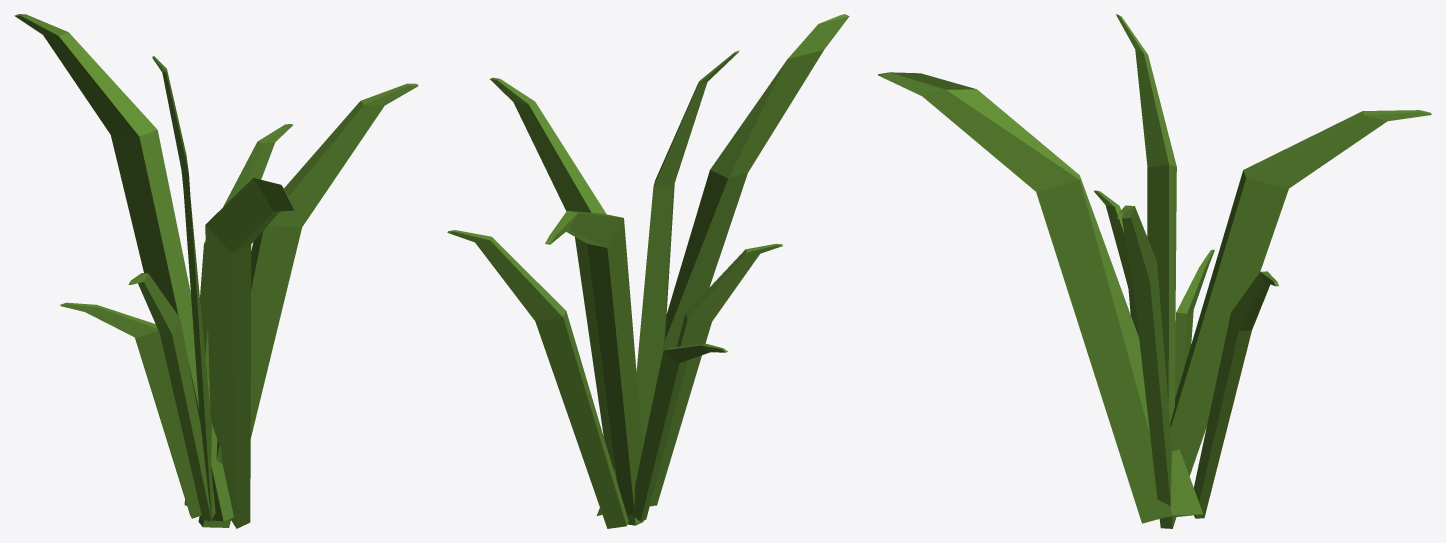
The model's file is Grass_Divided.fbx.
3 views of the same model, side by side, from view 1: azimuth 30°, elevation 25°; view 2: azimuth 150°, elevation 25°; view 3: azimuth 270°, elevation 25° (orthographic). The views are drawn at different scales.
Visible parts, largest first — view 1: Grass_piece_7, Grass_piece_8, Grass_piece_11, Grass_piece_3, Grass_piece_4, Grass_piece_14, Grass_piece_1, Grass_piece_12, Grass_piece_9, Grass_piece_13, Grass_piece_5, Grass_piece_6 (+2 smaller); view 2: Grass_piece_8, Grass_piece_10, Grass_piece_7, Grass_piece_9, Grass_piece_1, Grass_piece_3, Grass_piece_12, Grass_piece_5, Grass_piece_14, Grass_piece_11, Grass_piece_13, Grass_piece_2 (+2 smaller); view 3: Grass_piece_7, Grass_piece_8, Grass_piece_1, Grass_piece_11, Grass_piece_9, Grass_piece_4, Grass_piece_10, Grass_piece_2, Grass_piece_3, Grass_piece_5, Grass_piece_12, Grass_piece_13 (+1 smaller).
Part boxes in pixels (x1=…): Grass_piece_7: x1=205, y1=225, x2=251, y2=528; Grass_piece_8: x1=111, y1=130, x2=233, y2=521; Grass_piece_11: x1=198, y1=226, x2=301, y2=527; Grass_piece_3: x1=267, y1=83, x2=418, y2=227; Grass_piece_4: x1=14, y1=14, x2=157, y2=136; Grass_piece_14: x1=160, y1=318, x2=215, y2=520; Grass_piece_1: x1=205, y1=178, x2=298, y2=253; Grass_piece_12: x1=135, y1=331, x2=201, y2=518; Grass_piece_9: x1=181, y1=172, x2=214, y2=521; Grass_piece_13: x1=128, y1=273, x2=179, y2=333; Grass_piece_5: x1=204, y1=124, x2=293, y2=243; Grass_piece_6: x1=60, y1=302, x2=158, y2=338; Grass_piece_8: x1=587, y1=218, x2=641, y2=516; Grass_piece_10: x1=535, y1=311, x2=628, y2=528; Grass_piece_7: x1=596, y1=170, x2=747, y2=515; Grass_piece_9: x1=636, y1=184, x2=674, y2=506; Grass_piece_1: x1=710, y1=14, x2=849, y2=178; Grass_piece_3: x1=490, y1=77, x2=606, y2=214; Grass_piece_12: x1=630, y1=351, x2=687, y2=521; Grass_piece_5: x1=447, y1=230, x2=565, y2=321; Grass_piece_14: x1=650, y1=314, x2=711, y2=505; Grass_piece_11: x1=575, y1=237, x2=643, y2=525; Grass_piece_13: x1=685, y1=243, x2=782, y2=321; Grass_piece_2: x1=653, y1=50, x2=739, y2=188; Grass_piece_7: x1=1036, y1=175, x2=1202, y2=523; Grass_piece_8: x1=1170, y1=170, x2=1288, y2=518; Grass_piece_1: x1=878, y1=72, x2=1079, y2=191; Grass_piece_11: x1=1132, y1=262, x2=1176, y2=528; Grass_piece_9: x1=1147, y1=164, x2=1176, y2=422; Grass_piece_4: x1=1243, y1=110, x2=1431, y2=188; Grass_piece_10: x1=1194, y1=313, x2=1251, y2=518; Grass_piece_2: x1=1116, y1=14, x2=1176, y2=167; Grass_piece_3: x1=1117, y1=205, x2=1156, y2=282; Grass_piece_5: x1=1231, y1=271, x2=1278, y2=330; Grass_piece_12: x1=1175, y1=310, x2=1193, y2=398; Grass_piece_13: x1=1094, y1=190, x2=1133, y2=289.
Size of the model in its own units: 55.47 by 88.49 by 94.57.
